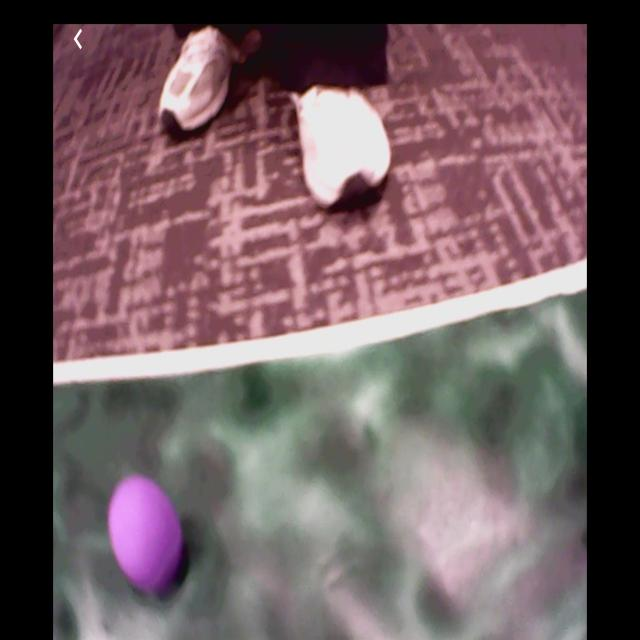ball: (109, 477, 182, 591)
